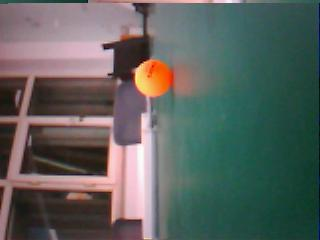oball: (135, 59, 170, 98)
